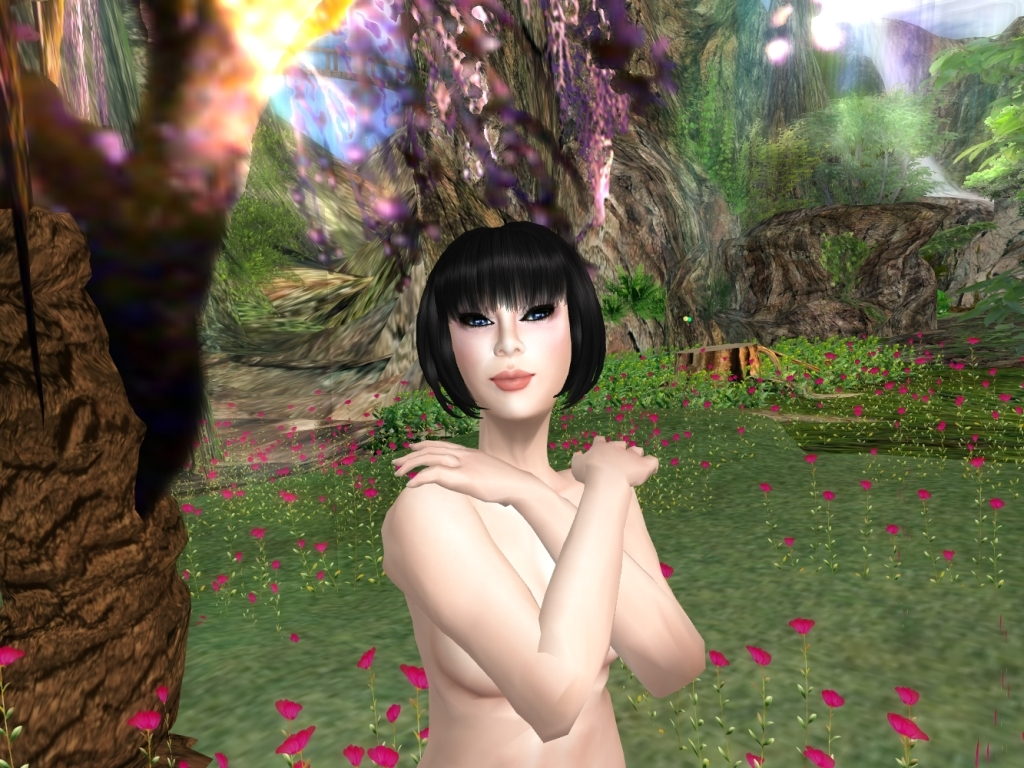Human_hand: (391, 438, 531, 503), (572, 436, 660, 484)
